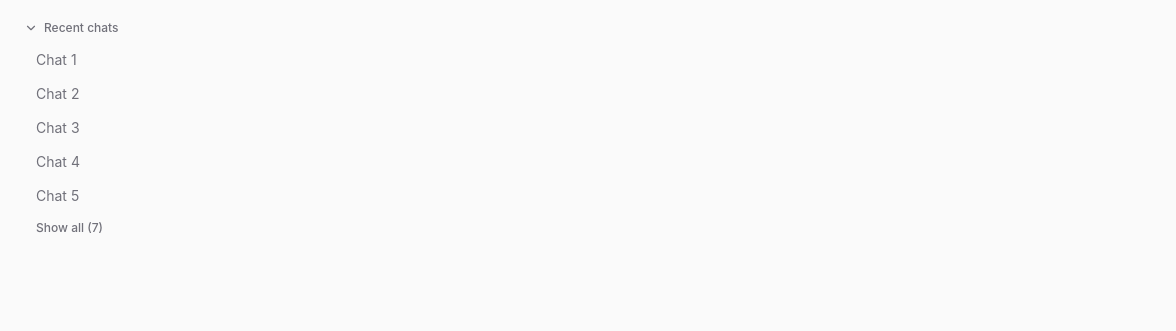
Scenario: ChatHistoryNav › reveals the rest of the list via Show all, and can collapse back
expect the button "Chat 1" is shown: met, box 24,44 -> 1134,76
expect the button "Chat 7" is not shown: met
Click the button "Show all (7)".
click(69, 228)  # box 24,214 -> 1164,242
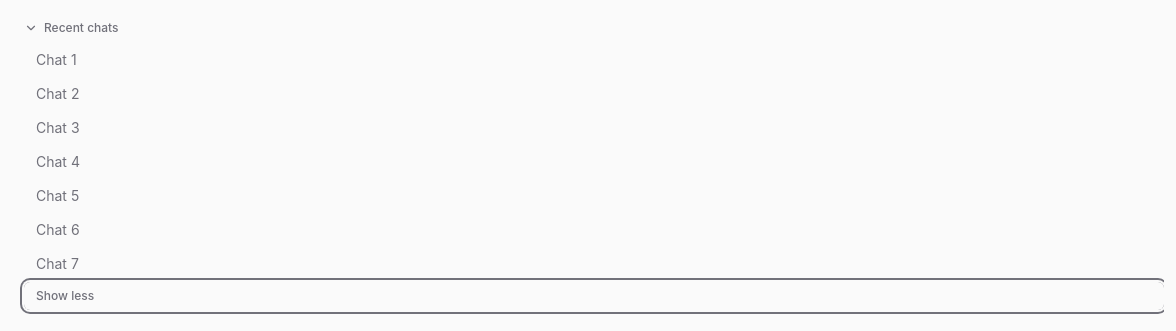
expect the button "Chat 7" is shown: met, box 24,248 -> 1134,280
Click the button "Show less".
click(65, 296)  # box 24,282 -> 1164,310
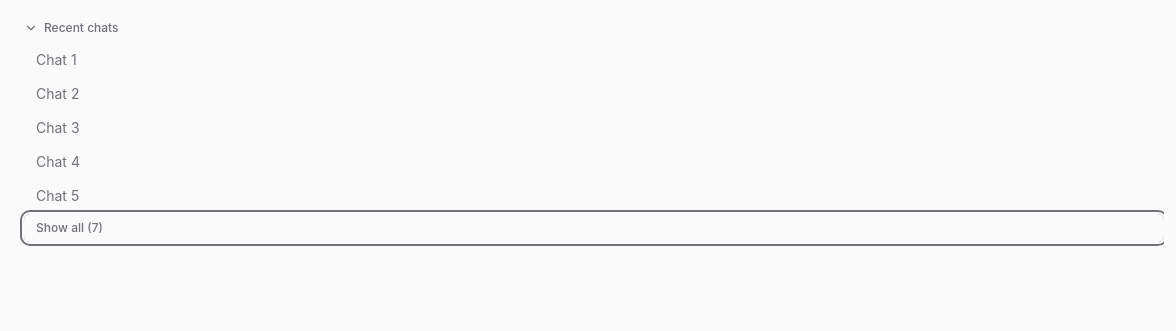
expect the button "Chat 7" is gone: met
